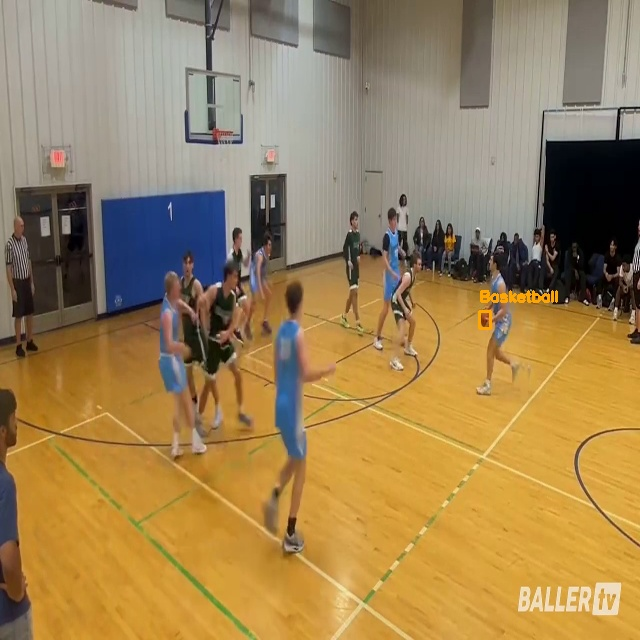Basketball: (479, 311, 490, 328)
